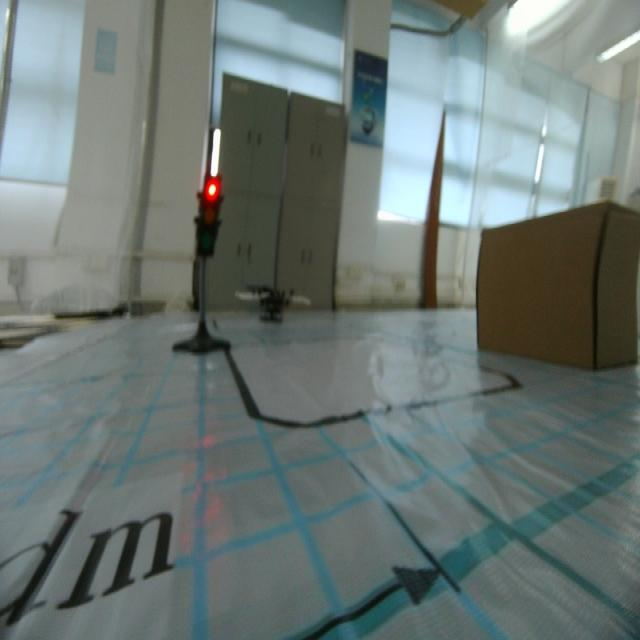red: (196, 177, 223, 258)
